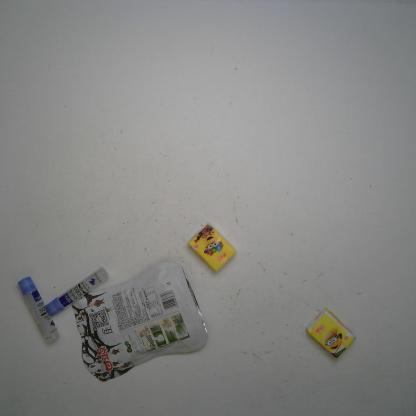Dried Fruit: (70, 259, 210, 383)
Stationery: (44, 268, 108, 316), (18, 275, 60, 344)
Tissue: (305, 309, 355, 358), (189, 224, 236, 274)
